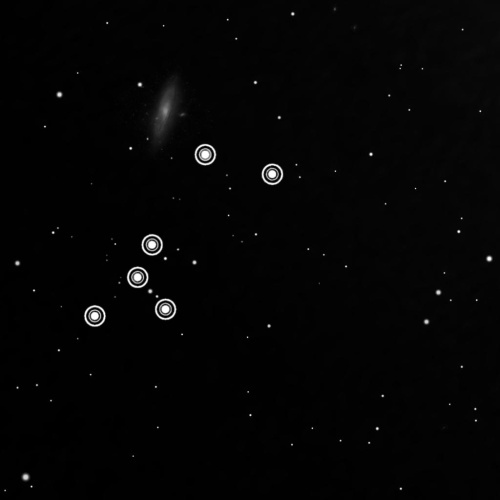canis_major: (76, 137, 292, 335)
